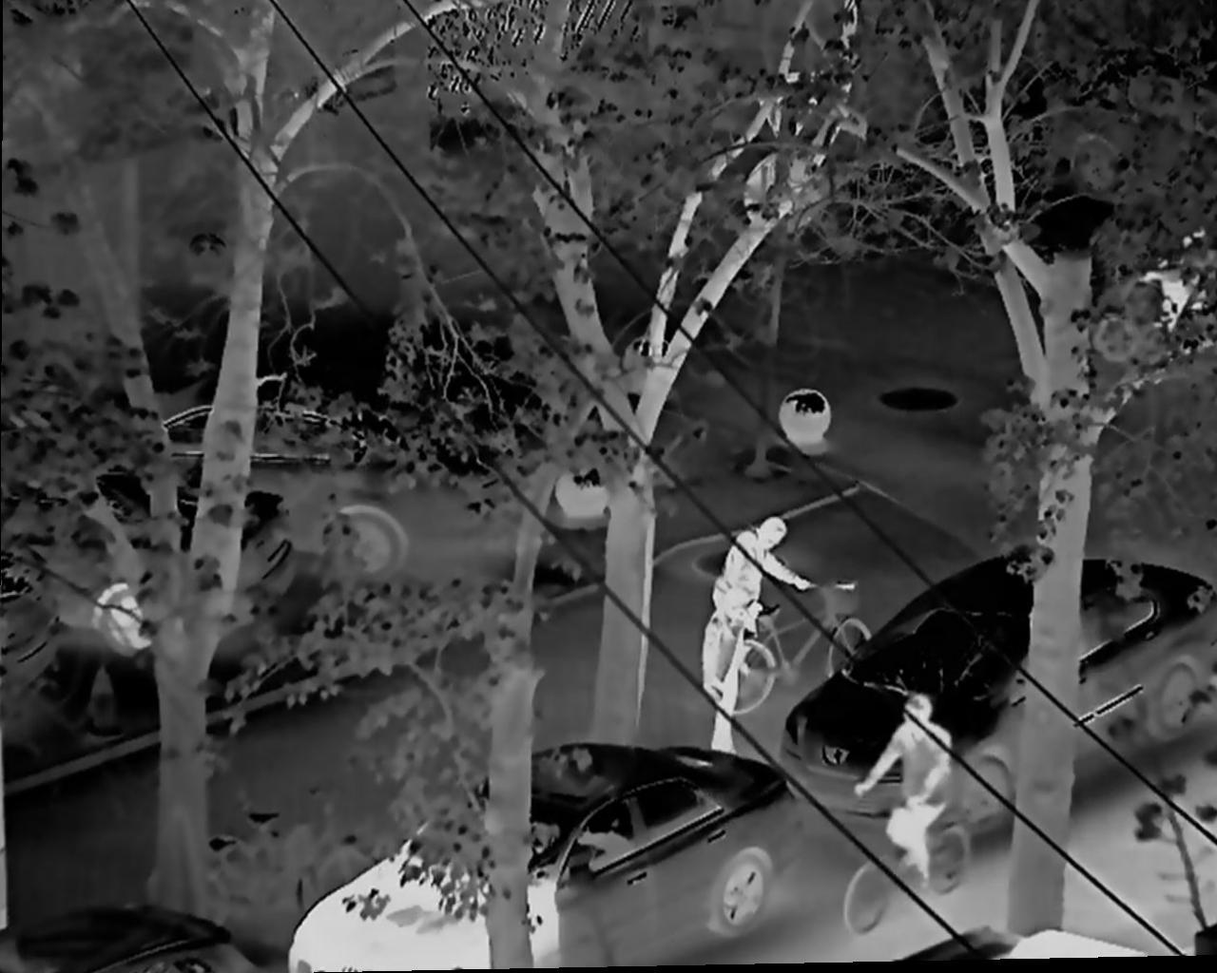person: (852, 696, 953, 890), (703, 590, 756, 754), (723, 519, 815, 598)
